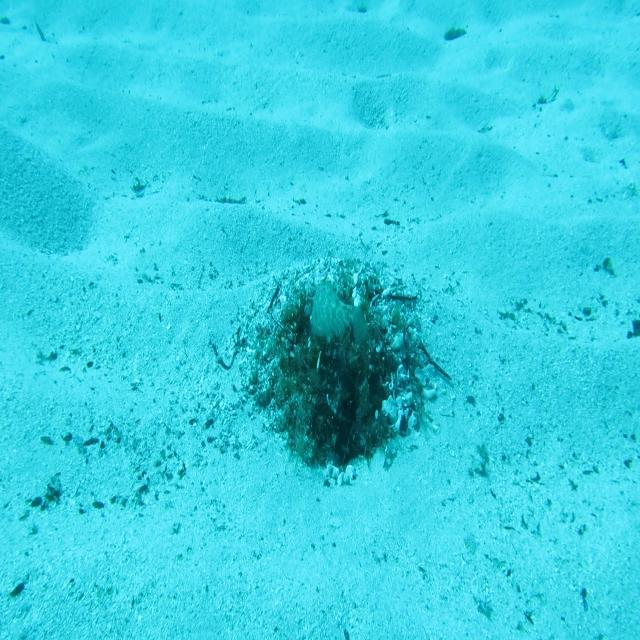NIP_CORE: (309, 276, 370, 362)
core_nest: (304, 308, 350, 346)
nest: (223, 246, 444, 499)
vegetation: (445, 20, 465, 41)
